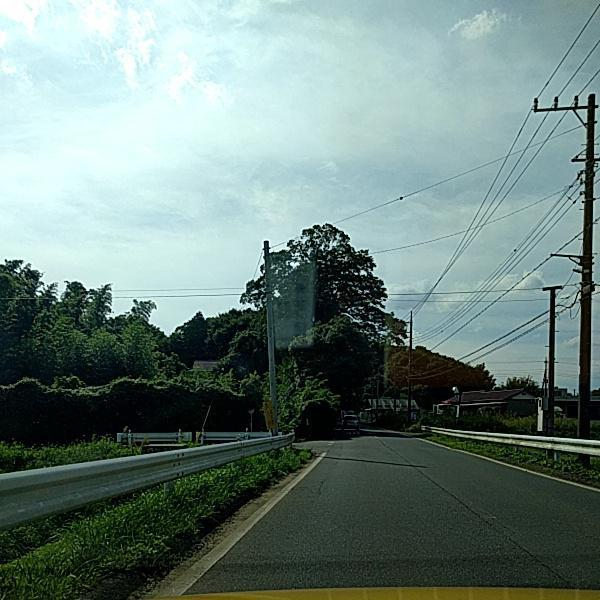D00: (313, 475, 325, 497)
